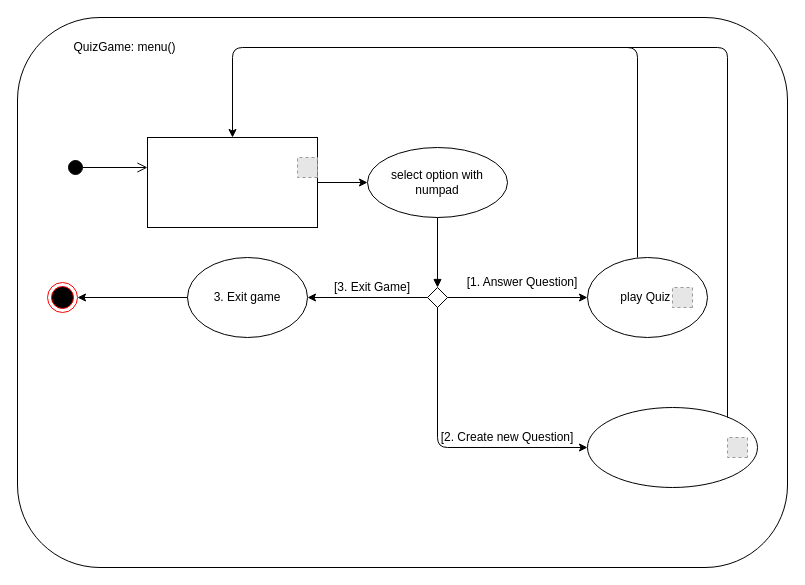
The diagram is 805 pixels wide and 585 high, and some of its shapes have lost their labels. Grey dashed boxes stand in for pictures. The shapes that lost their labels are listed below. From the top down, each one's box as (x1, y1, x2, y2) in pixels, then its label:
(146, 136, 318, 228): Menue: 1. Answer Question 2. Create new Question 3. Exit Game int userscore
(586, 406, 758, 488): create new Question
